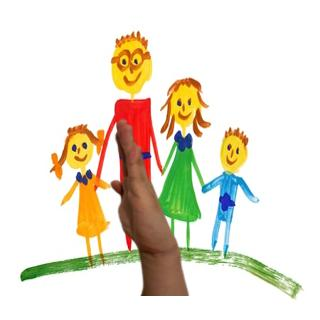RIGHT: (105, 117, 179, 254)
